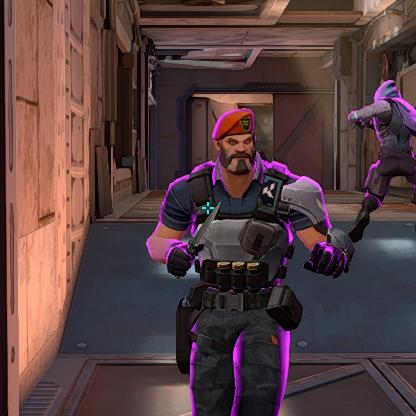enemyBody: (200, 181, 274, 269), (384, 103, 409, 144)
enemyHead: (224, 126, 251, 168), (381, 86, 393, 99)
